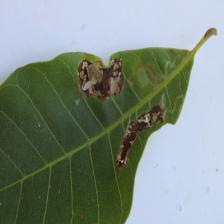leaf miner: (105, 98, 173, 178), (76, 57, 126, 101)
